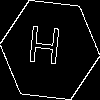H: (25, 25, 63, 75)
